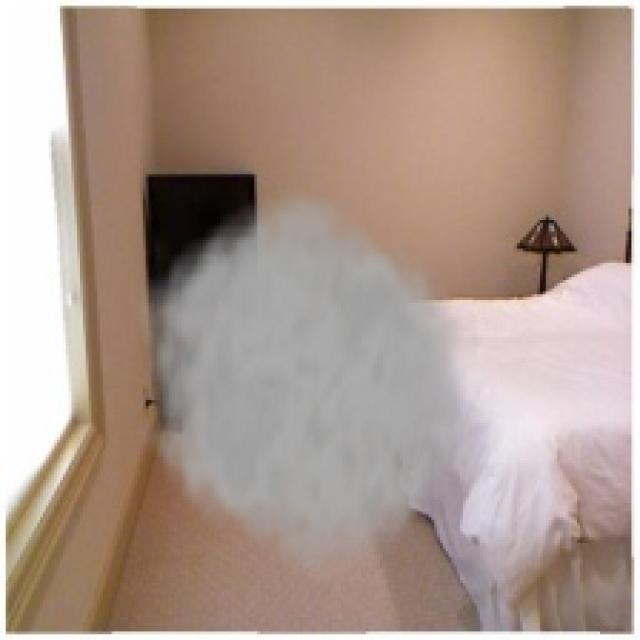Smoke: (126, 179, 477, 592)
